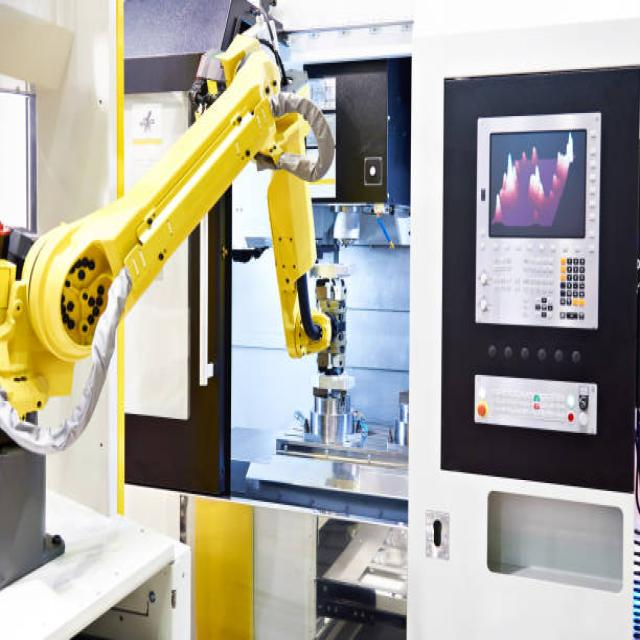Robotic-arm: (0, 16, 347, 458)
